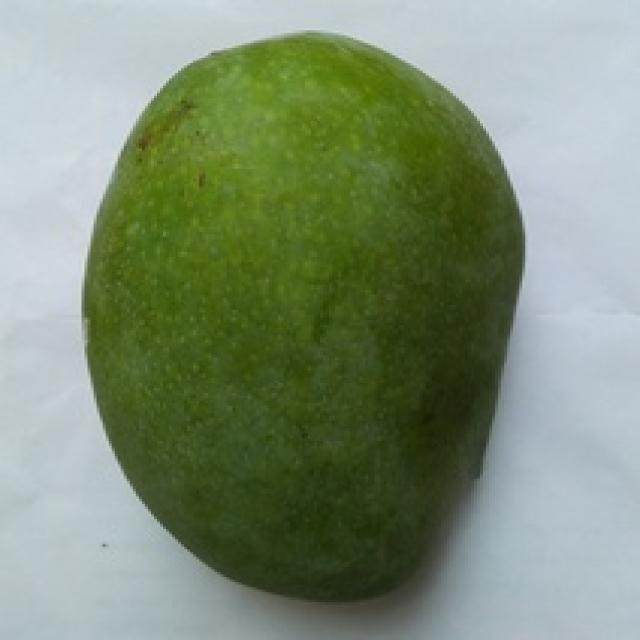Mango: (88, 35, 519, 597)
